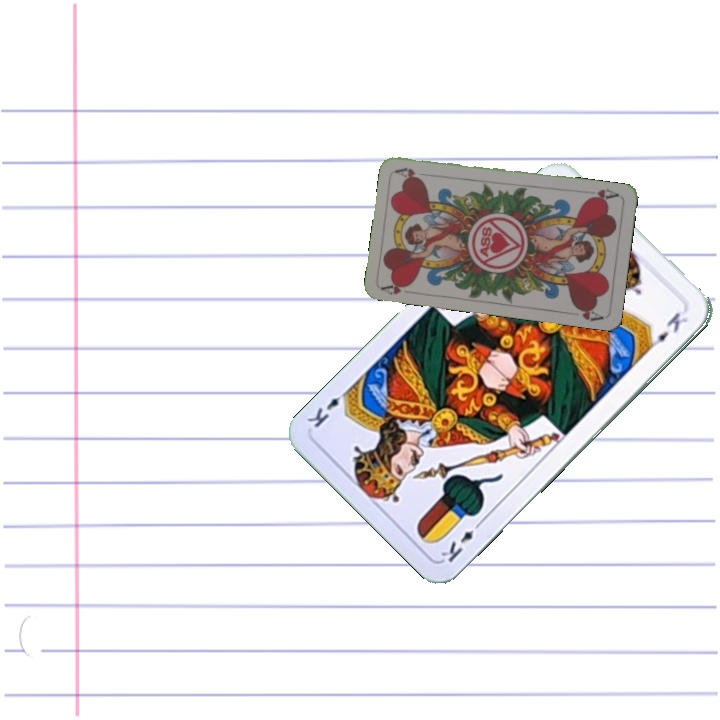EK: (436, 516, 485, 565)
HA: (378, 277, 419, 297), (582, 184, 622, 204)
